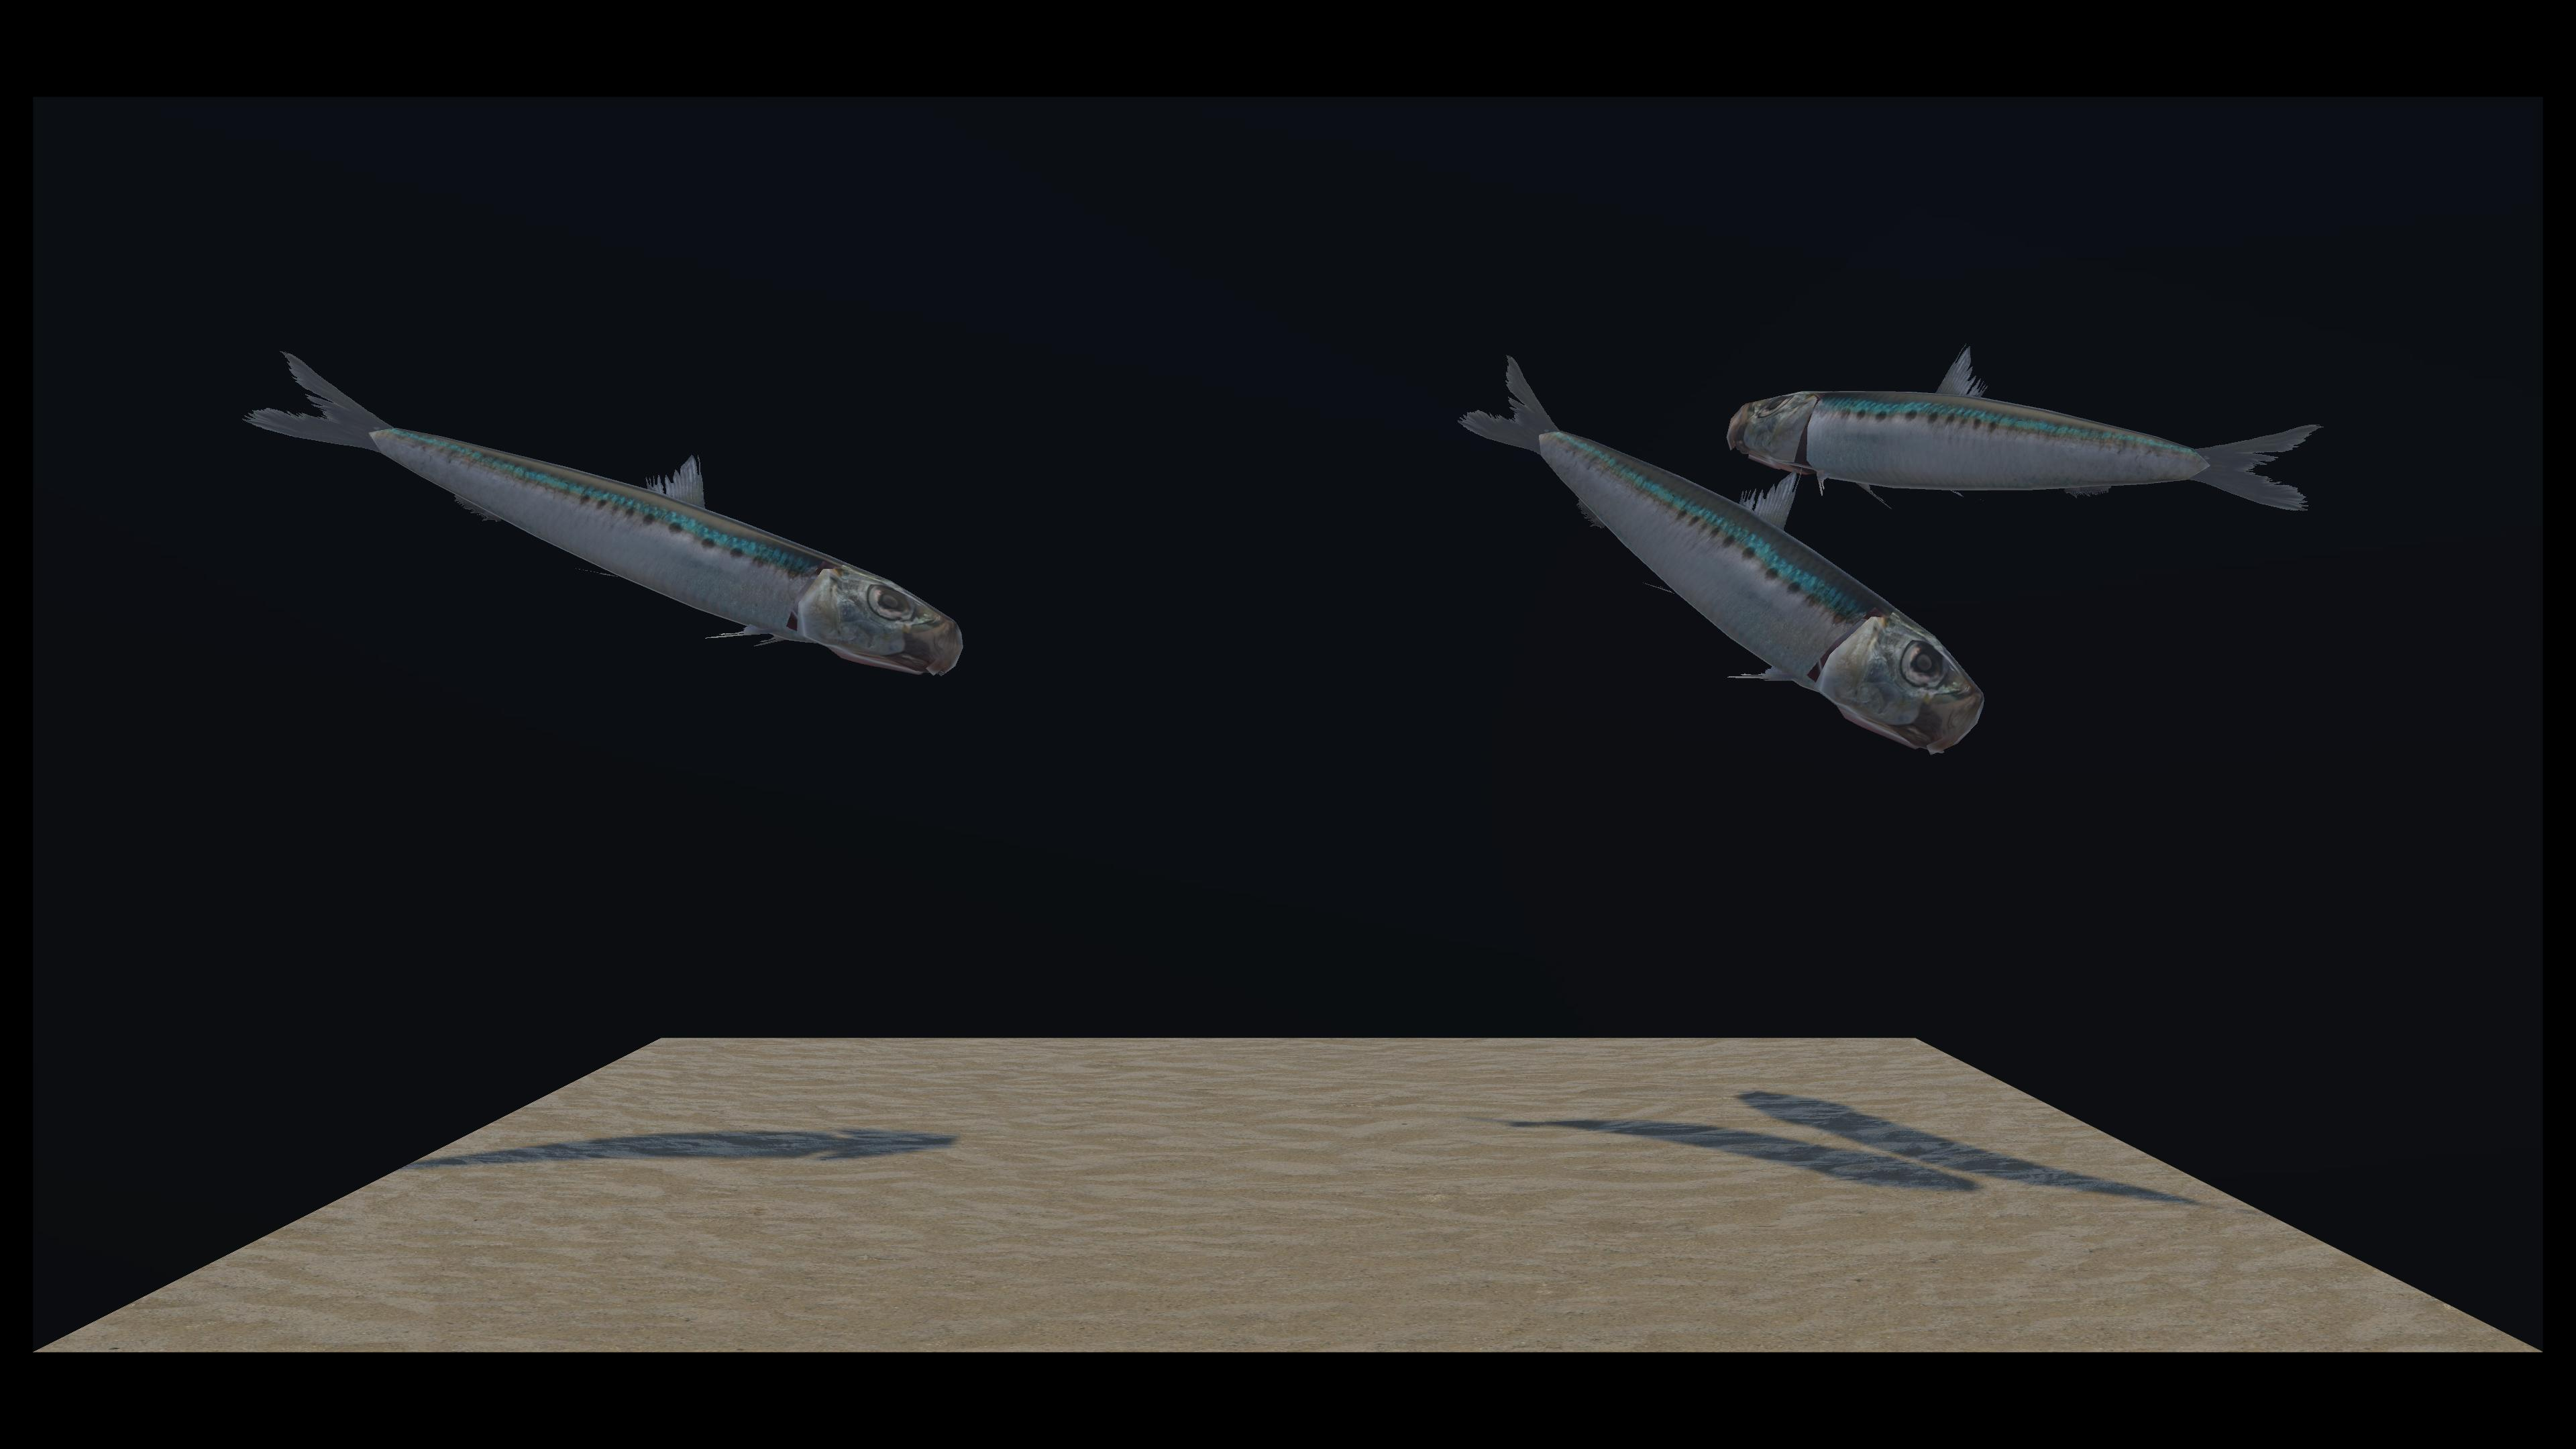Sardine_Front: (816, 359, 1980, 692), (888, 350, 2318, 548), (260, 354, 952, 658)
